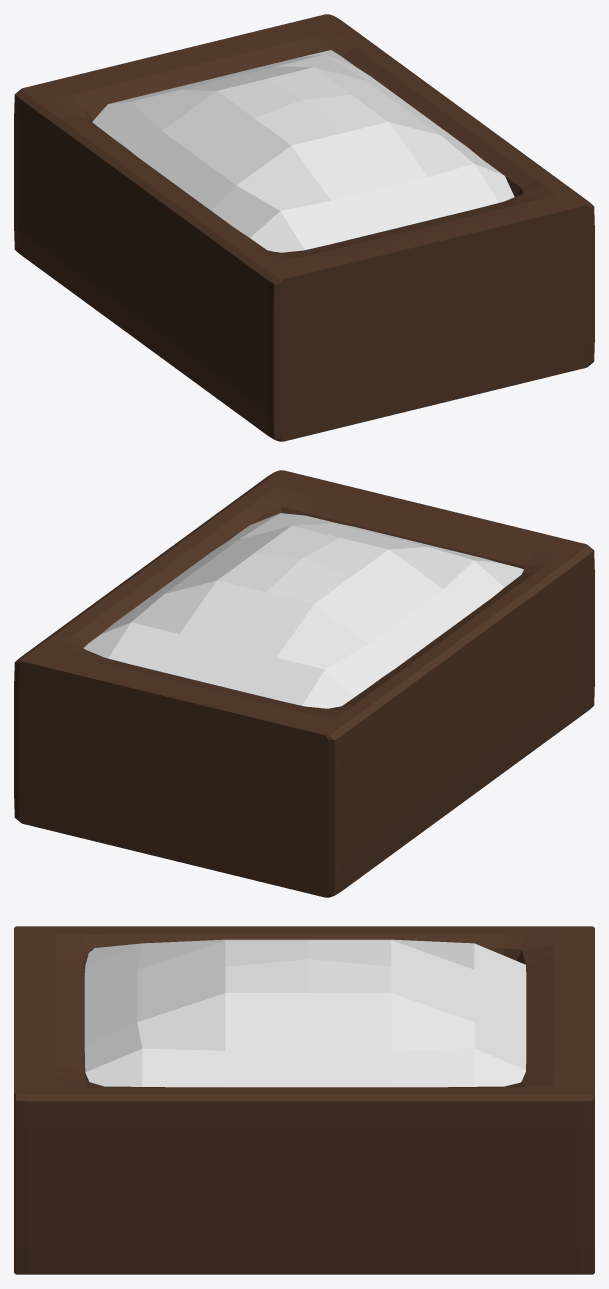
The model's file is basket.fbx.
The picture shows the model from 3 angles, top to bottom: view 1: azimuth 30°, elevation 25°; view 2: azimuth 150°, elevation 25°; view 3: azimuth 270°, elevation 25°; orthographic projection. The views are drawn at different scales.
Parts seen in each view (by area): view 1: basket, powder; view 2: basket, powder; view 3: basket, powder.
Boxes of the visible parts, box(x1,y1,x2,y2) form: basket: box(14, 14, 594, 441); powder: box(92, 50, 514, 252); basket: box(14, 470, 594, 897); powder: box(83, 513, 523, 708); basket: box(14, 926, 594, 1274); powder: box(84, 939, 526, 1087).
Size of the model in its own units: 200 by 123 by 280.
